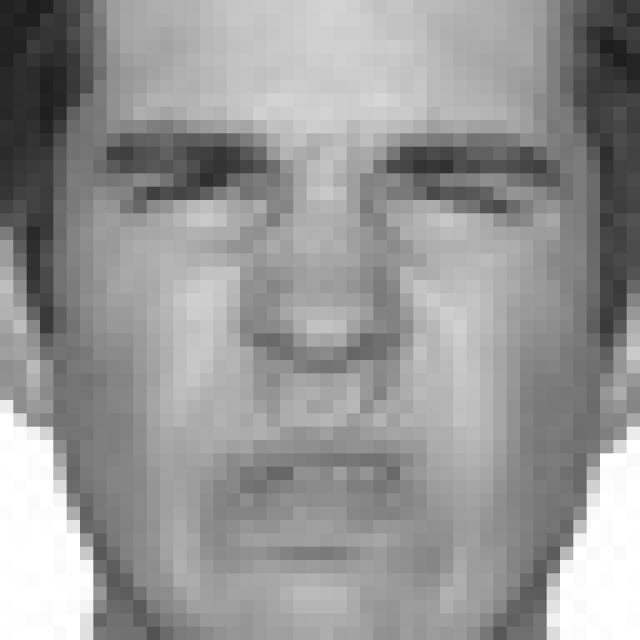disgust: (107, 123, 576, 572)
